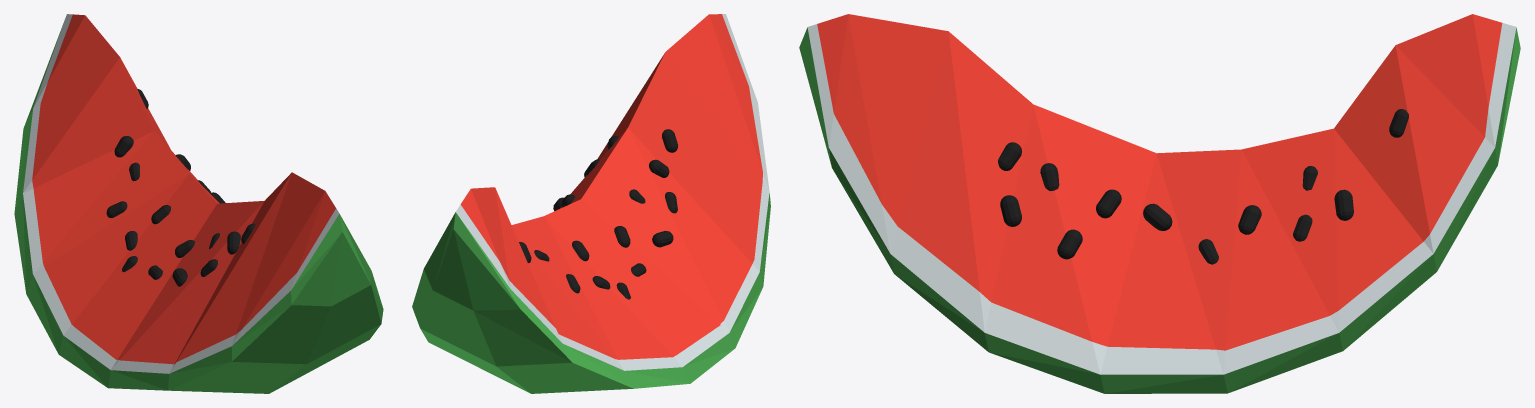
Rendered from Slice of Watermelon.glb.
3 renders of one model, left to right at view 1: azimuth 30°, elevation 25°; view 2: azimuth 150°, elevation 25°; view 3: azimuth 270°, elevation 25°, orthographic. The views are drawn at different scales.
Visible parts, largest first — view 1: Node; view 2: Node; view 3: Node.
Boxes of the visible parts, bbox=[...] form: Node: bbox=[14, 14, 383, 393]; Node: bbox=[412, 14, 770, 393]; Node: bbox=[799, 14, 1520, 393].
Size of the model in its own units: 0.4652 by 0.5047 by 0.9362.
